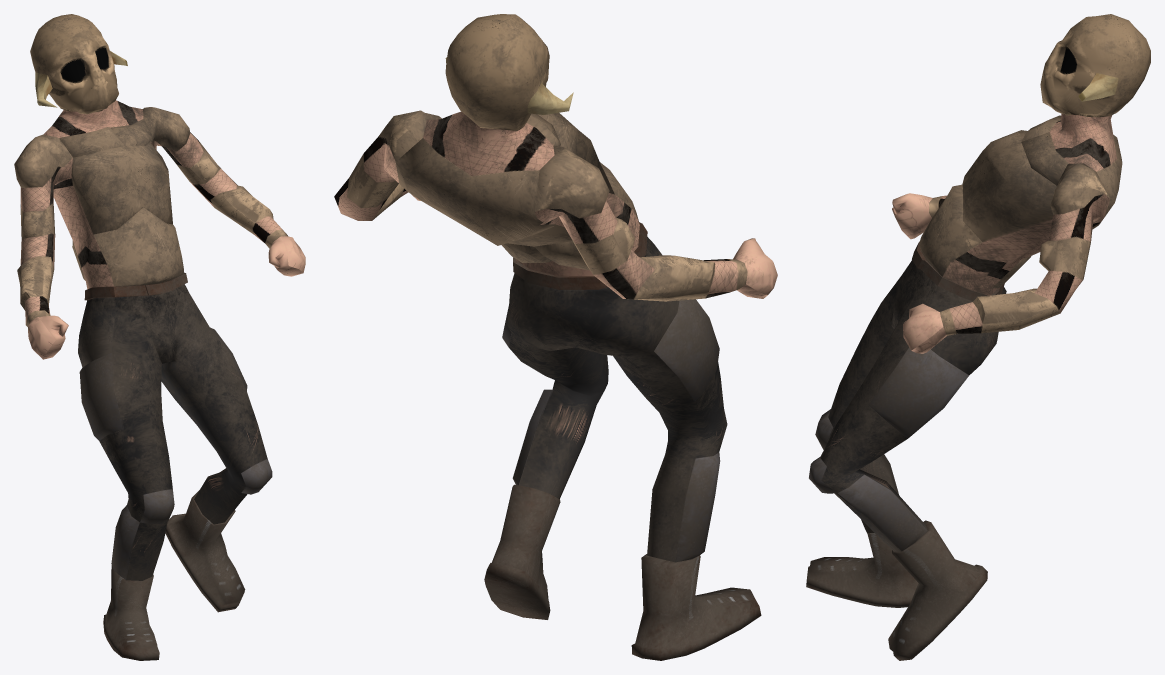
The model's file is Anim_morir_npc1.0026.obj.
3 views of the same model, side by side, from view 1: azimuth 30°, elevation 25°; view 2: azimuth 150°, elevation 25°; view 3: azimuth 270°, elevation 25° (orthographic). The views are drawn at different scales.
Visible parts, largest first — view 1: NPC2; view 2: NPC2; view 3: NPC2.
Boxes of the visible parts, box(x1,y1,x2,y2) form: NPC2: box(14, 14, 305, 660); NPC2: box(334, 14, 777, 660); NPC2: box(806, 14, 1150, 660).
Size of the model in its own units: 4.46 by 8.4 by 4.35.
